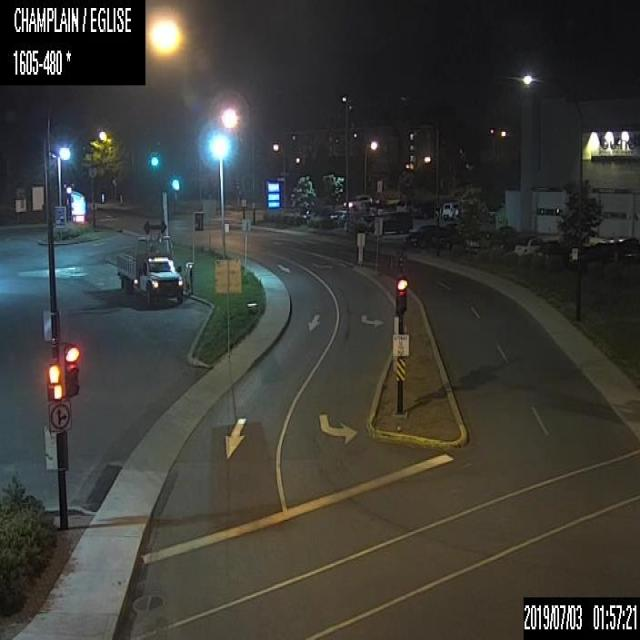vehicle: (116, 218, 182, 306), (367, 208, 413, 233), (428, 222, 463, 249), (464, 231, 505, 253), (532, 238, 567, 262), (404, 222, 436, 248), (490, 233, 523, 255), (566, 244, 592, 270), (514, 234, 542, 256), (343, 193, 372, 212), (410, 198, 434, 218), (342, 214, 366, 230), (328, 208, 349, 226), (364, 198, 384, 212), (441, 200, 457, 217), (310, 209, 328, 223), (396, 196, 411, 210), (300, 208, 316, 220)
